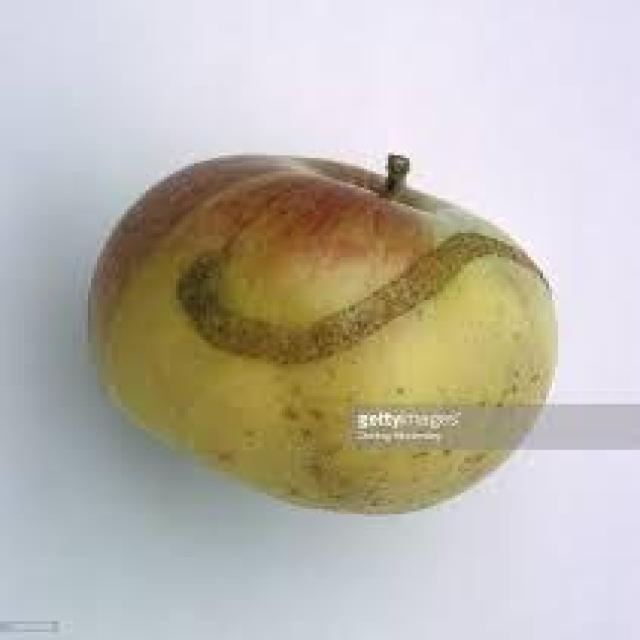maca: (85, 150, 558, 514)
